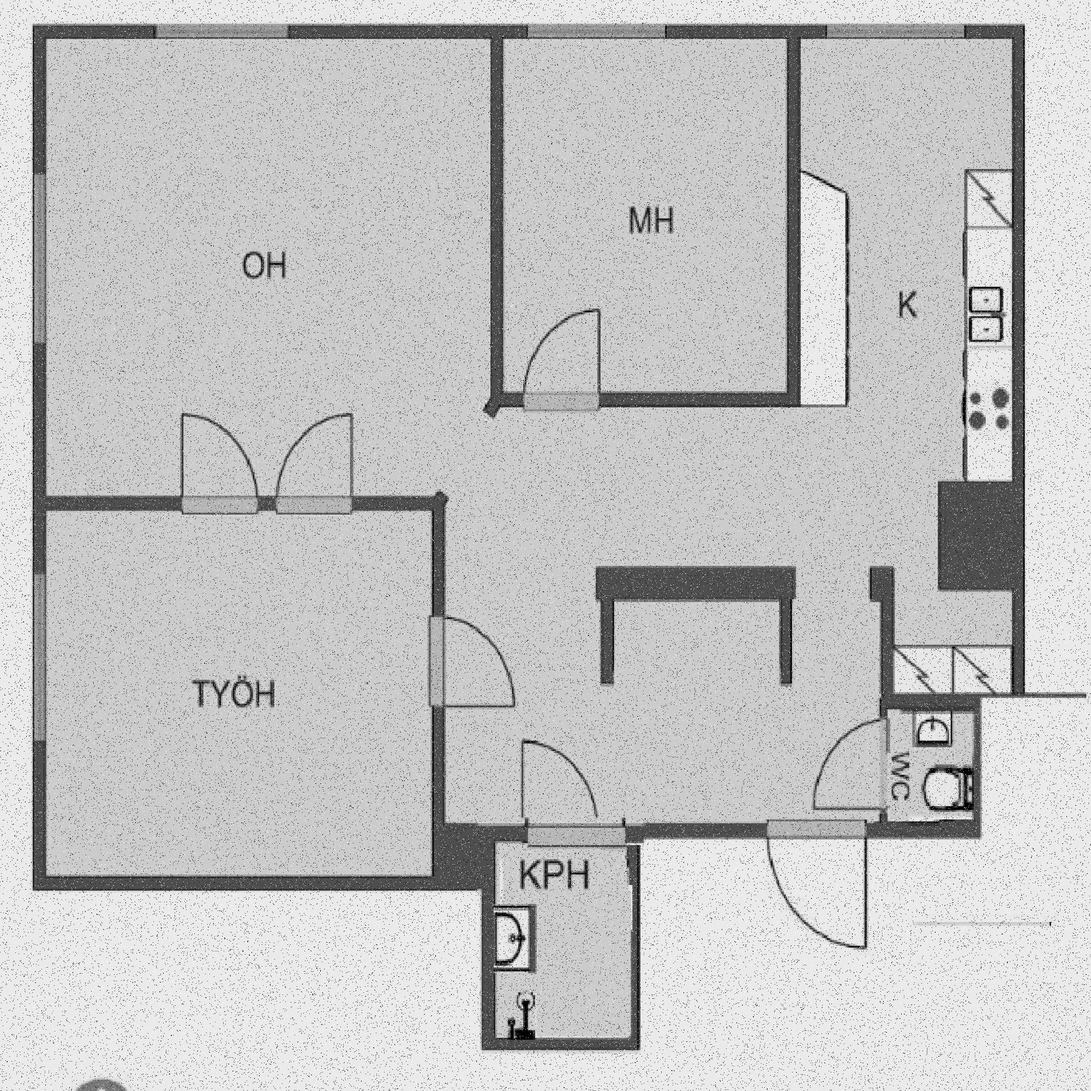wall: (34, 24, 1024, 38), (34, 24, 46, 890), (595, 566, 893, 600), (1012, 24, 1024, 707), (434, 395, 498, 509), (34, 876, 496, 890), (46, 495, 446, 509), (631, 825, 985, 839), (433, 495, 445, 876), (788, 38, 800, 409), (491, 38, 503, 399), (491, 395, 800, 409), (881, 565, 893, 826), (631, 825, 643, 1054), (483, 1040, 643, 1054), (483, 876, 495, 1054), (483, 825, 631, 839), (601, 409, 613, 565), (780, 409, 792, 565), (973, 693, 985, 839), (602, 683, 792, 689), (893, 693, 973, 707), (780, 600, 792, 689), (601, 600, 613, 689), (972, 693, 1023, 707), (483, 825, 495, 875)
